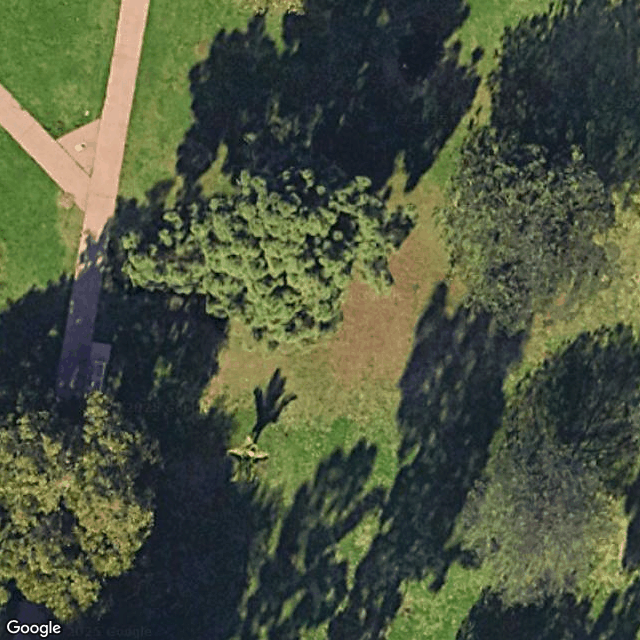palm: (223, 432, 275, 497)
